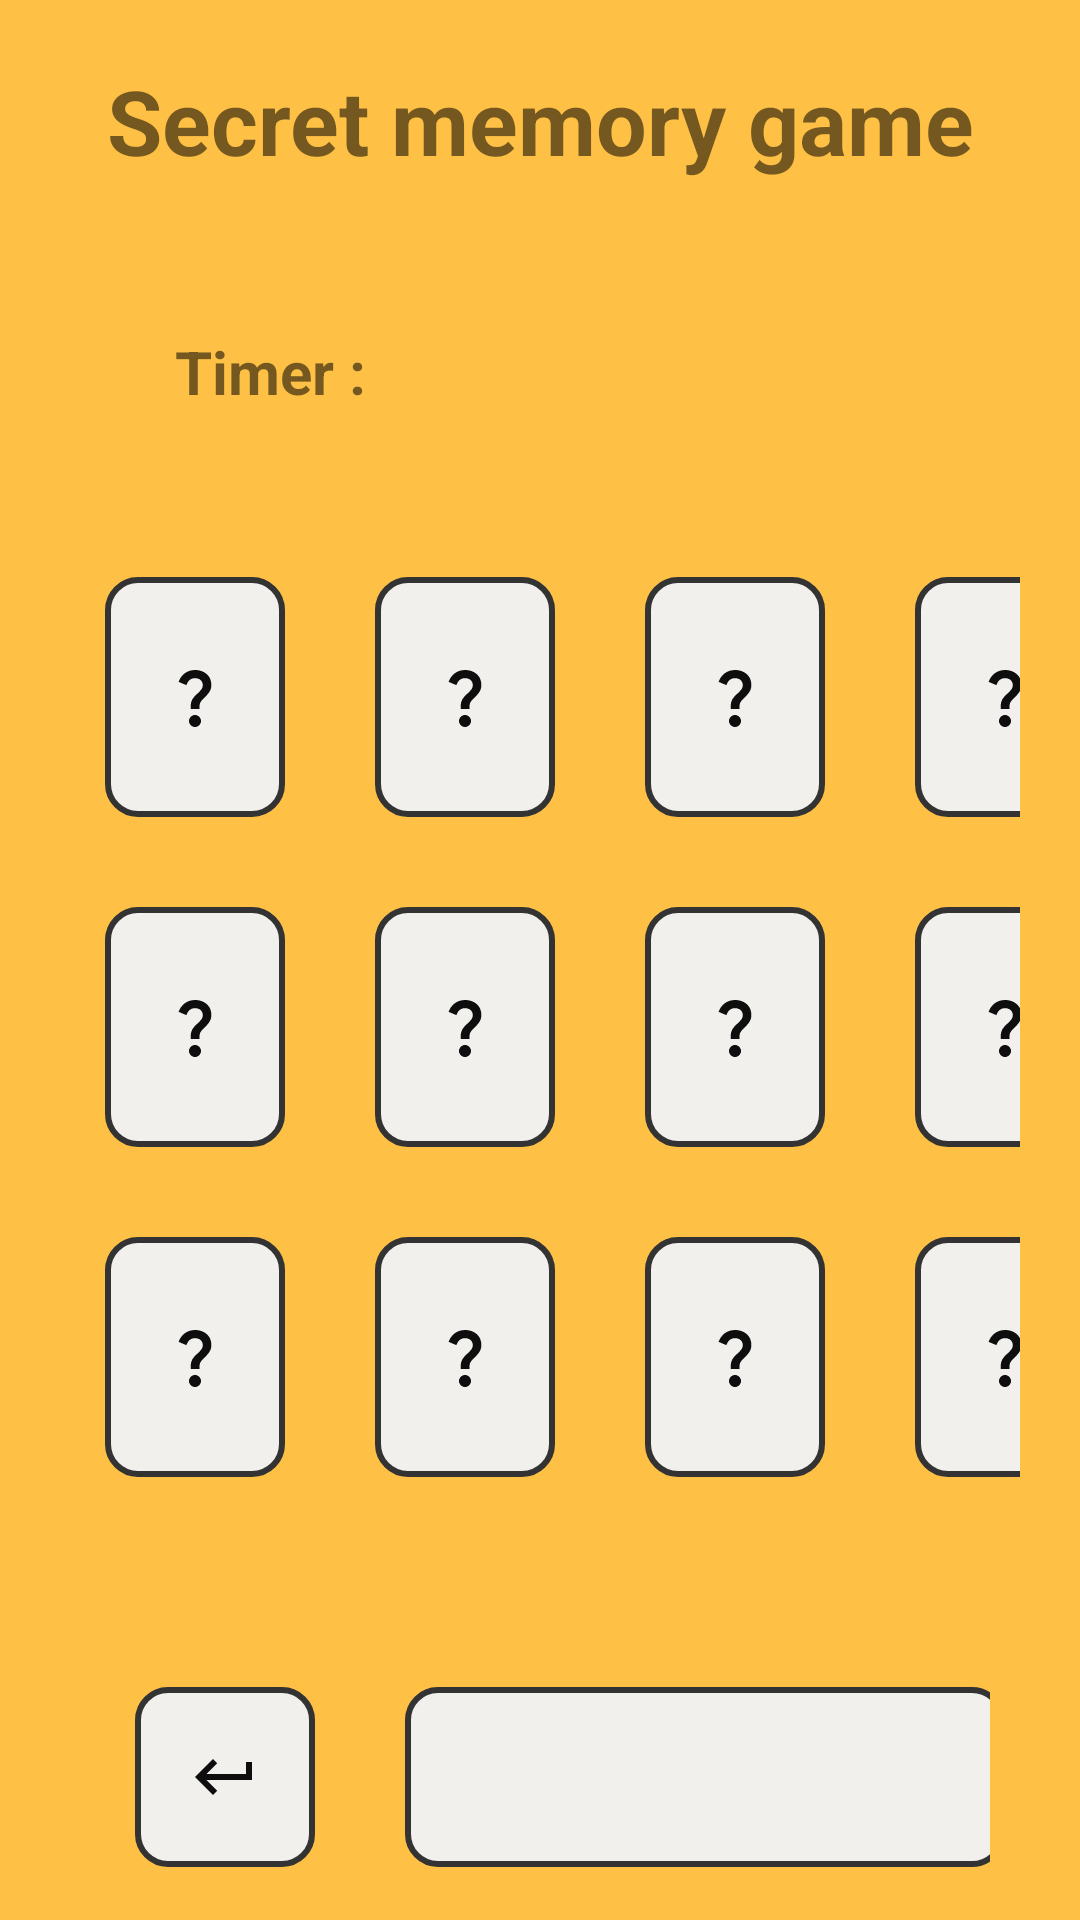

Icon bounding boxes for this 1080px×1920px phone screenshot, format (x1, y1, x2, y2):
back: (135, 1687, 315, 1867)
